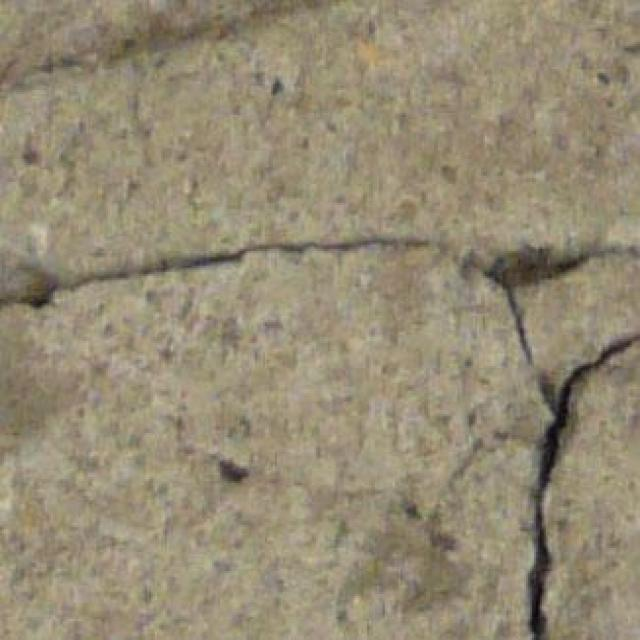multi-branched crack: (0, 234, 638, 638)
